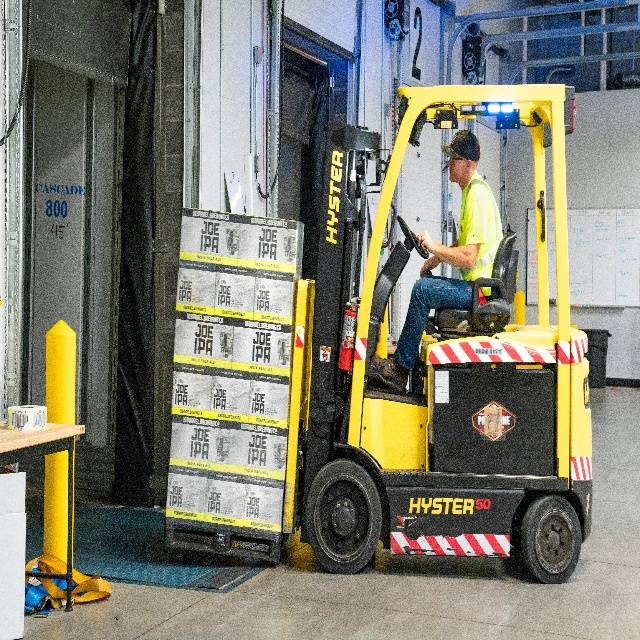Gafas: (450, 157, 467, 165)
Sin_guantes: (420, 255, 441, 278), (416, 230, 434, 252)
